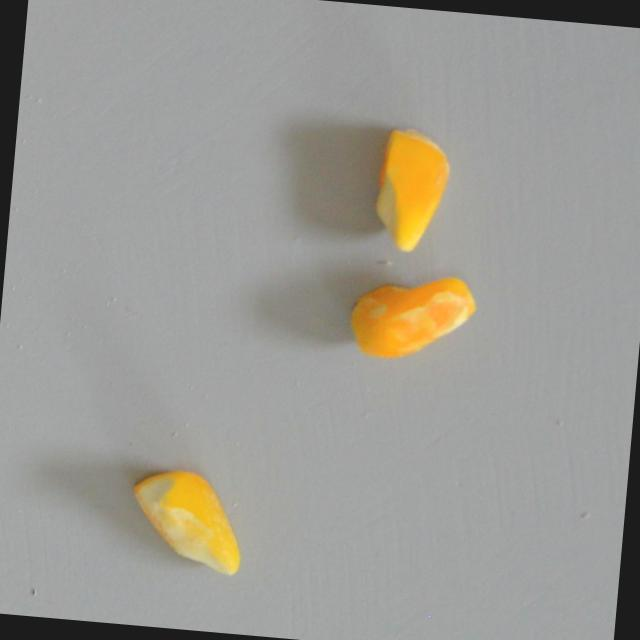estandar: (121, 464, 247, 577), (367, 128, 455, 254)
pelicula: (368, 249, 455, 383)
